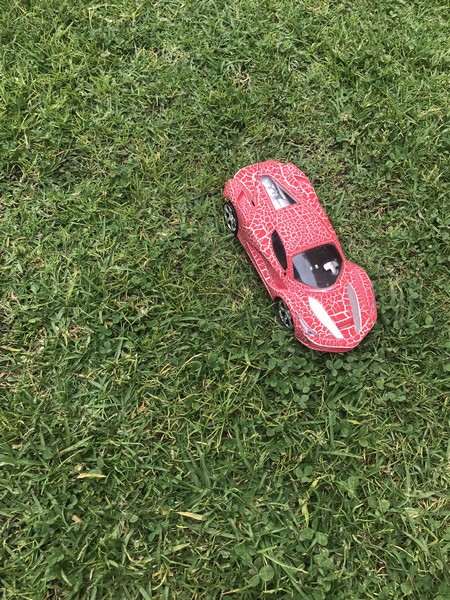RC: (219, 159, 378, 356)
